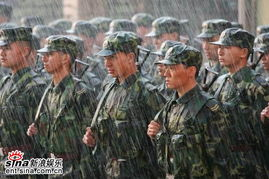10+: (1, 4, 267, 179)
